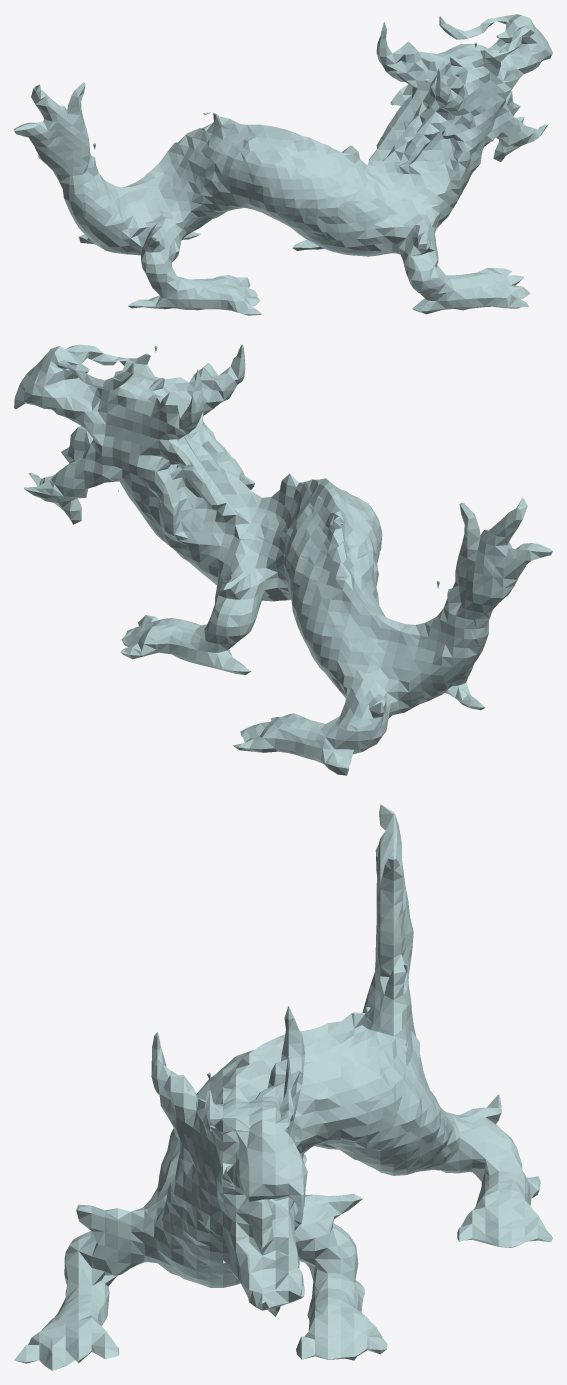
The model's file is baseline_64.glb.
The picture shows the model from 3 angles, top to bottom: view 1: azimuth 30°, elevation 25°; view 2: azimuth 150°, elevation 25°; view 3: azimuth 270°, elevation 25°; orthographic projection. The views are drawn at different scales.
Parts seen in each view (by area): view 1: baseline_64.ply; view 2: baseline_64.ply; view 3: baseline_64.ply.
Boxes of the visible parts, bbox=[...] form: baseline_64.ply: bbox=[14, 14, 552, 315]; baseline_64.ply: bbox=[14, 344, 552, 775]; baseline_64.ply: bbox=[14, 804, 552, 1370].
Size of the model in its own units: 1.96 by 0.8862 by 1.3.
